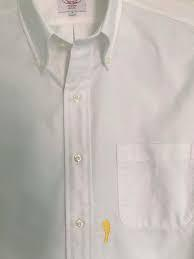lipstick: (97, 216, 111, 240)
